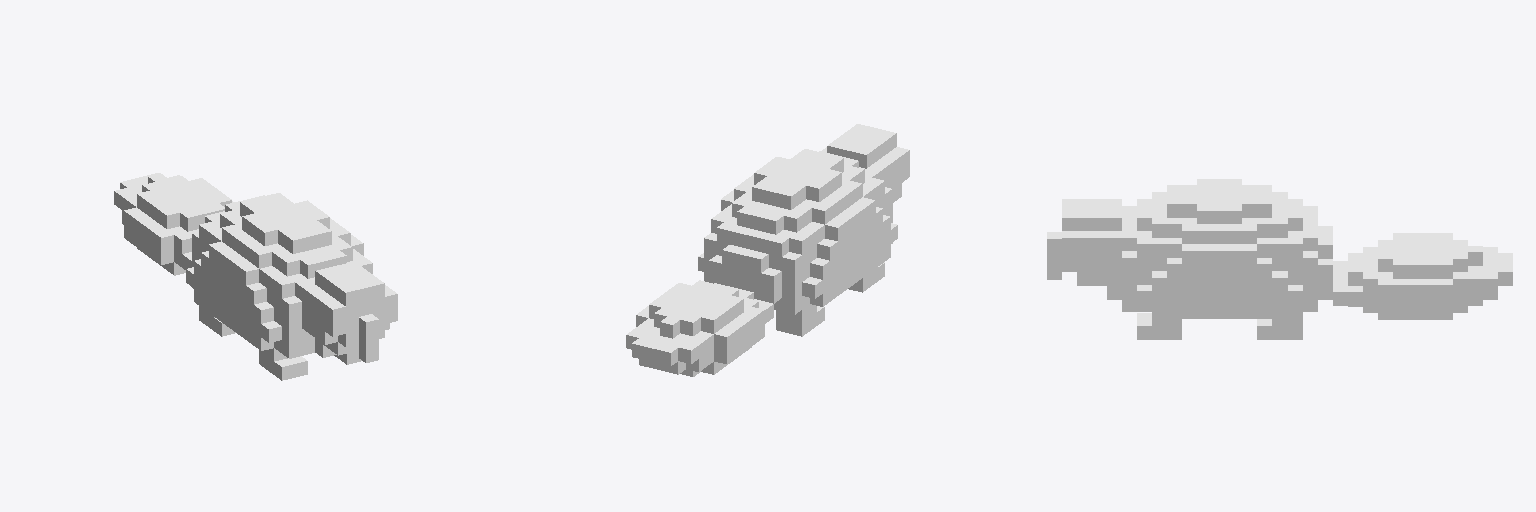
The model's file is Beaver1.obj.
3 renders of one model, left to right at view 1: azimuth 30°, elevation 25°; view 2: azimuth 150°, elevation 25°; view 3: azimuth 270°, elevation 25°, orthographic.
Parts seen in each view (by area): view 1: object 1; view 2: object 1; view 3: object 1.
Part boxes in pixels (left/top/right/bottom): object 1: left=114, top=173, right=397, bottom=380; object 1: left=626, top=124, right=909, bottom=376; object 1: left=1047, top=179, right=1512, bottom=339.
Bounding box in the file's own units: 0.9 × 0.9 × 3.1.